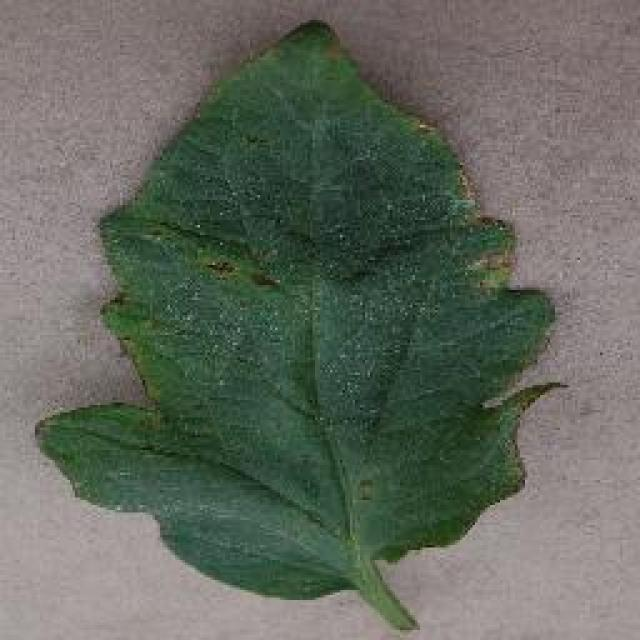bacterial spot: (34, 22, 563, 629)
